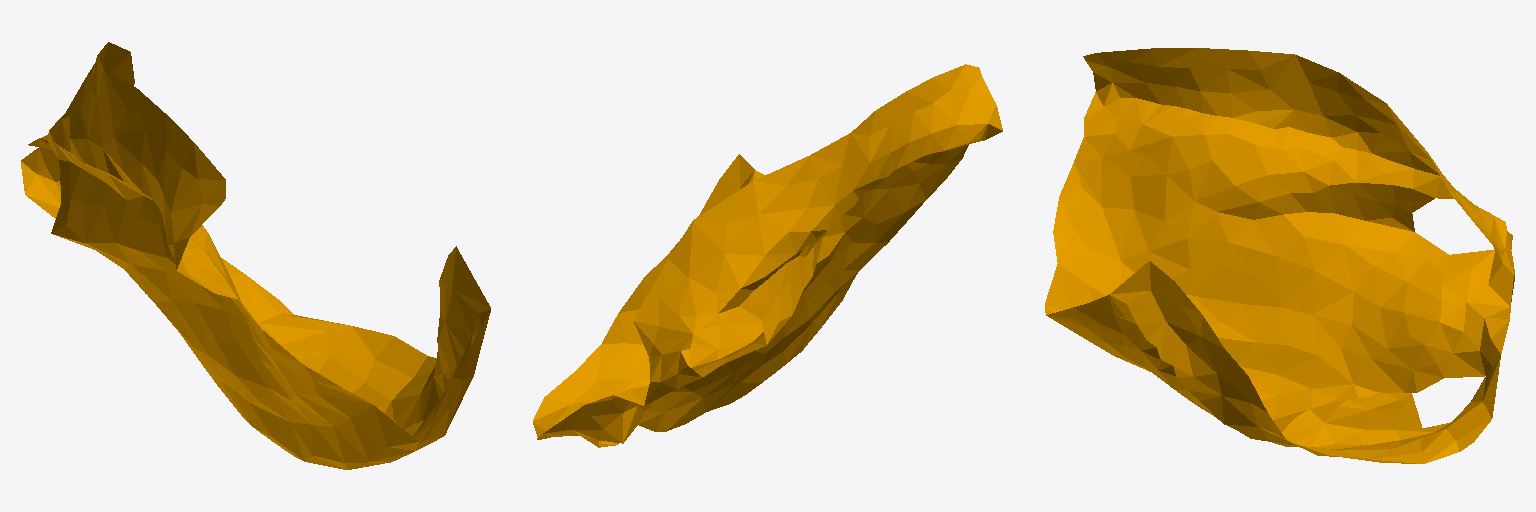
The robot description file, URDF, robot "init":
<?xml version='1.0' encoding='utf-8'?>
<robot name="init">
<link name="link_0"><inertial><mass value="1.0" /><origin rpy="0 0 0" xyz="0.000000 0.000000 0.000000" /><inertia ixx="1.0" ixy="0.0" ixz="0.0" iyy="1.0" iyz="0.0" izz="1.0" /></inertial><visual><origin rpy="0 0 0" xyz="0.000000 0.000000 0.000000" /><geometry><mesh filename="./clothHuman/cloth/601.obj" /></geometry></visual><collision><origin rpy="0 0 0" xyz="0.000000 0.000000 0.000000" /><geometry><mesh filename="./clothHuman/cloth/601.obj" /></geometry></collision></link></robot>

--- Facts derived from the render (not from the file) ---
The picture shows the robot from 3 angles, left to right: view 1: azimuth 30°, elevation 25°; view 2: azimuth 150°, elevation 25°; view 3: azimuth 270°, elevation 25°; orthographic projection.
Model init with 1 links and 0 joints (none), rooted at link_0, posed all joints at 0.
Visible links, largest first — view 1: link_0; view 2: link_0; view 3: link_0.
Boxes of the visible links, x1,y1,x2,y2 form: link_0: [21, 42, 490, 469]; link_0: [533, 64, 1002, 447]; link_0: [1045, 48, 1514, 463].
Size in the robot's own frame: 2.81 by 3.82 by 2.75 metres.
1 mesh visuals loaded from 1 distinct referenced files (1 OBJ).